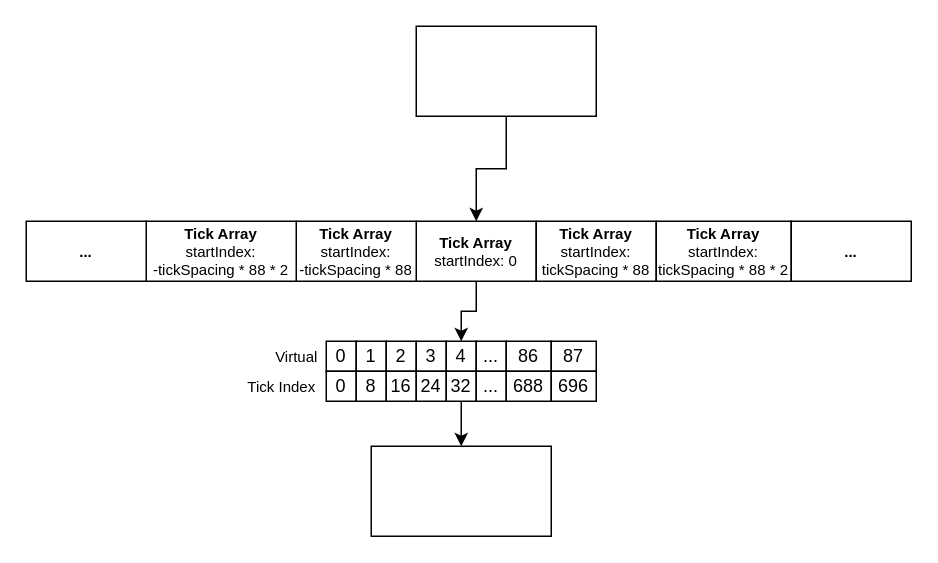
Image size: 938x563. Some labels were removed from this diagram. The shapes that lost their labels are listed below. From the top down, each one's box as (x1, y1, x2, y2) in pixels, then its label:
(415, 25, 596, 116): Whirlpool TokenA / TokenB
(370, 445, 551, 536): Tick # 32
